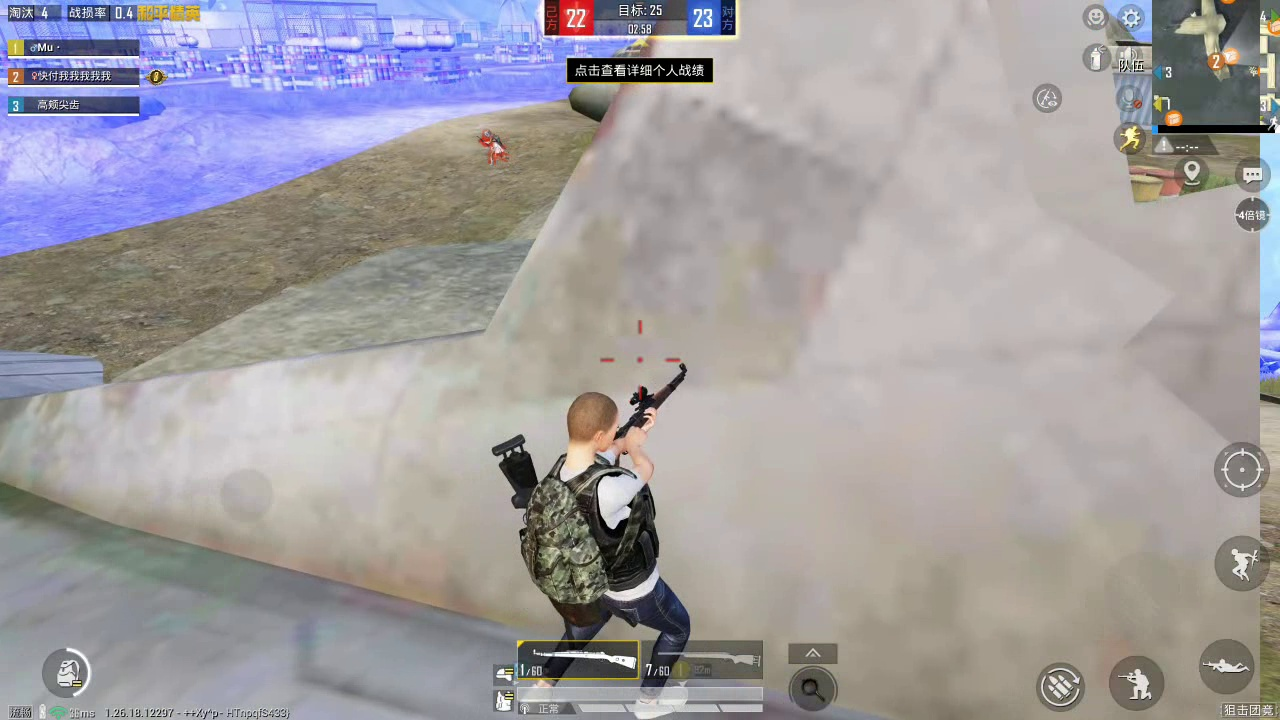enemy: (478, 129, 511, 166)
